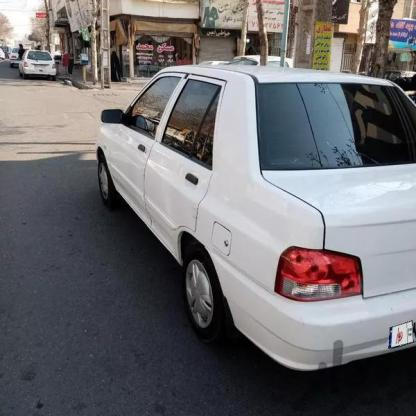Car: (87, 62, 416, 370), (21, 50, 62, 89)
